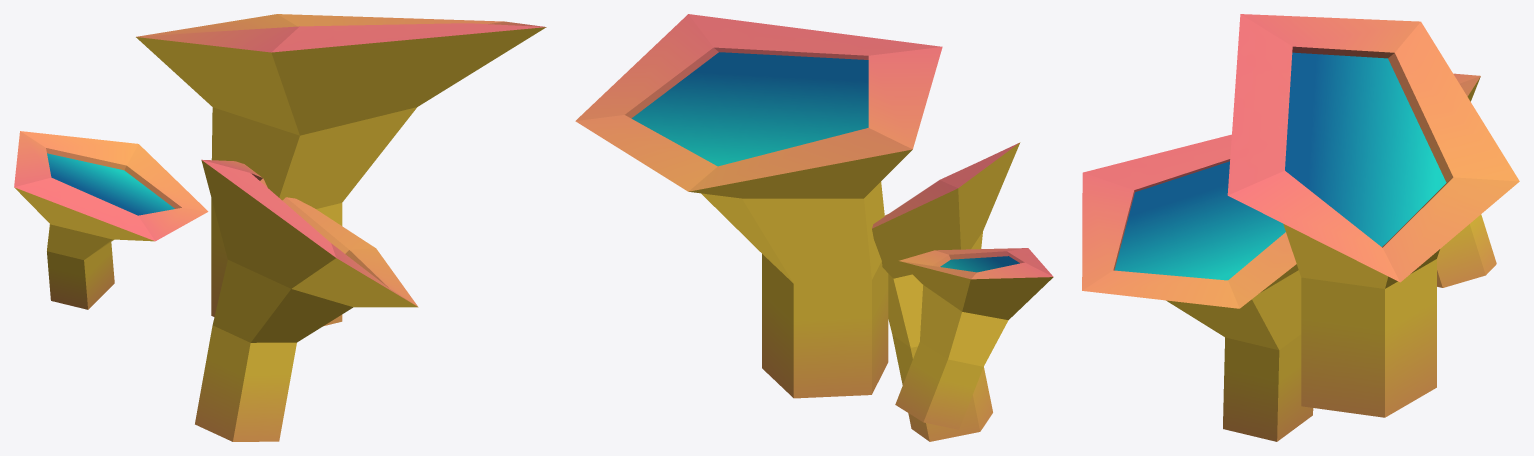
The model's file is SM_Plant_B.fbx.
3 renders of one model, left to right at view 1: azimuth 30°, elevation 25°; view 2: azimuth 150°, elevation 25°; view 3: azimuth 270°, elevation 25°, orthographic. The views are drawn at different scales.
Parts seen in each view (by area): view 1: PotPlant_Type2.005, PotPlant_Type2.004, PotPlant_Type2.003; view 2: PotPlant_Type2.005, PotPlant_Type2.003, PotPlant_Type2.004; view 3: PotPlant_Type2.005, PotPlant_Type2.004, PotPlant_Type2.003.
Boxes of the visible parts, x1,y1,x2,y2 form: PotPlant_Type2.005: (136,14,546,326); PotPlant_Type2.004: (195,159,418,441); PotPlant_Type2.003: (14,131,208,309); PotPlant_Type2.005: (575,14,942,398); PotPlant_Type2.003: (895,248,1053,429); PotPlant_Type2.004: (872,142,1020,441); PotPlant_Type2.005: (1227,14,1519,417); PotPlant_Type2.004: (1082,134,1313,441); PotPlant_Type2.003: (1437,73,1496,287).
Bounding box in the file's own units: 33.13 × 46.72 × 35.06.
